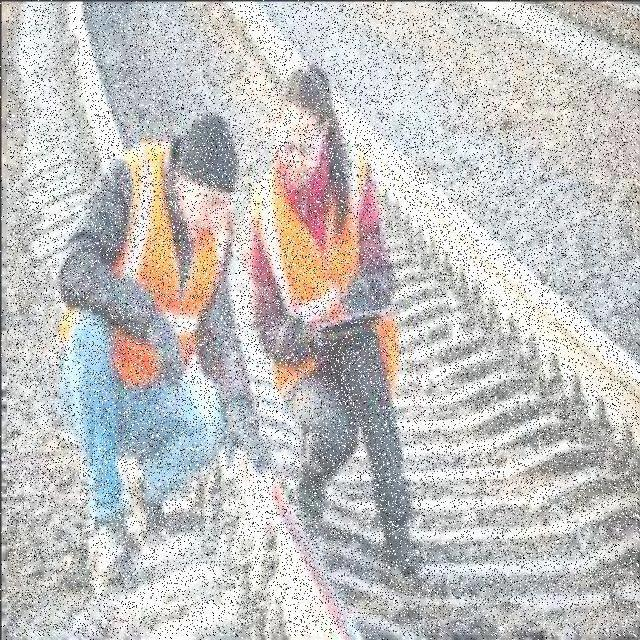rail: (8, 6, 639, 636)
